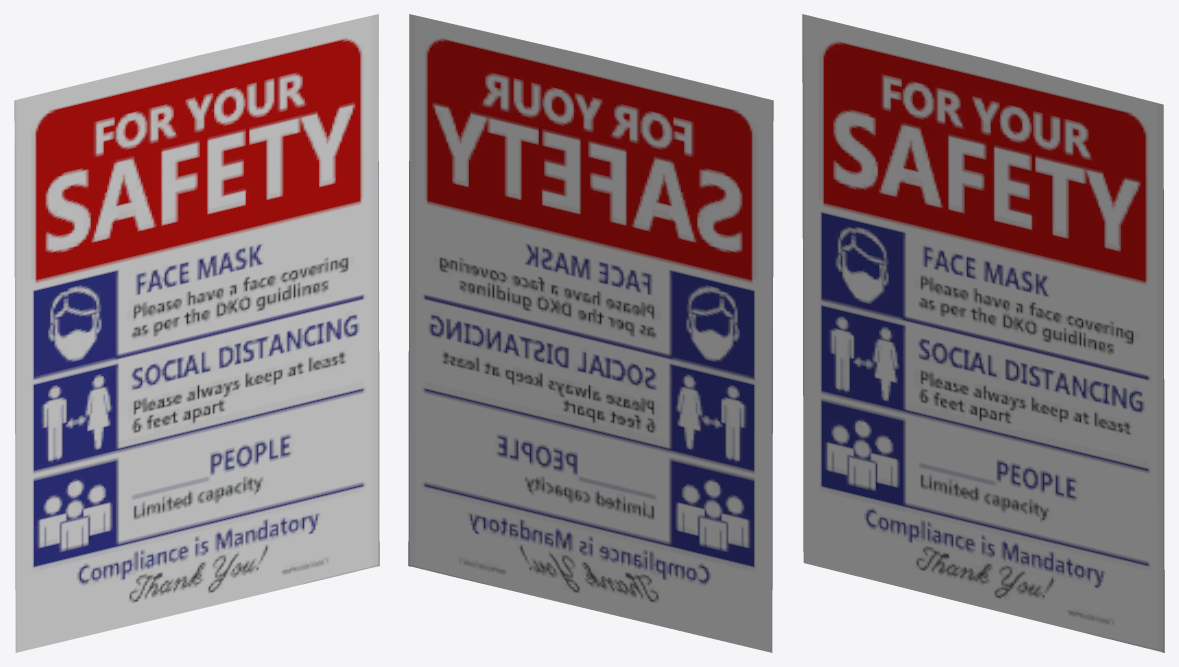
Rendered from SM_Sign_Covid_09.glb.
3 renders of one model, left to right at view 1: azimuth 30°, elevation 25°; view 2: azimuth 150°, elevation 25°; view 3: azimuth 330°, elevation 25°, orthographic.
Visible parts, largest first — view 1: SM_Sign_Covid_09; view 2: SM_Sign_Covid_09; view 3: SM_Sign_Covid_09.
Boxes of the visible parts, x1=… form: SM_Sign_Covid_09: x1=14, y1=14, x2=379, y2=652; SM_Sign_Covid_09: x1=408, y1=14, x2=773, y2=652; SM_Sign_Covid_09: x1=802, y1=14, x2=1164, y2=652.
Size of the model in its own units: 0.3726 by 0.5412 by 8.85e-08.
1 material, 1 textured.
